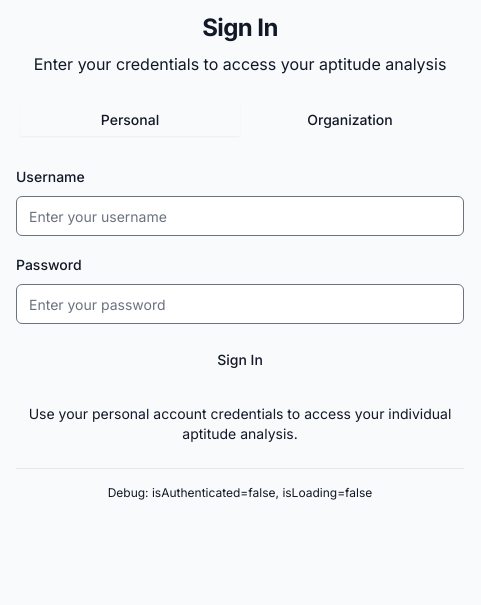
Test: LoginForm › should show session code field when organization tab is selected
This screenshot has width=481, height=605.
Step 1. Click the tab "Organization" → (350,120), box [240, 104, 460, 136]
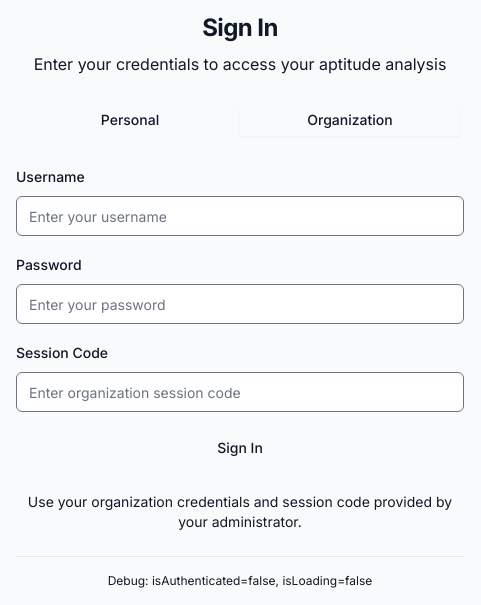
Expected: the field labelled "Session Code" is shown, [16, 372, 464, 412]
